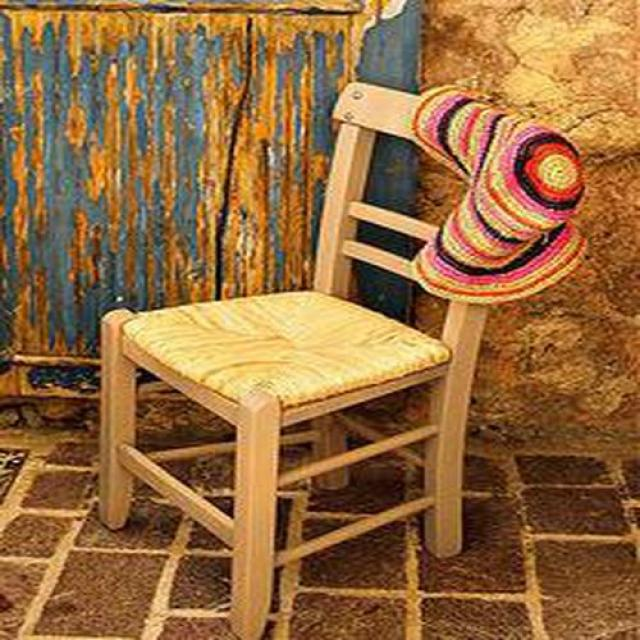chair: (95, 82, 585, 640)
